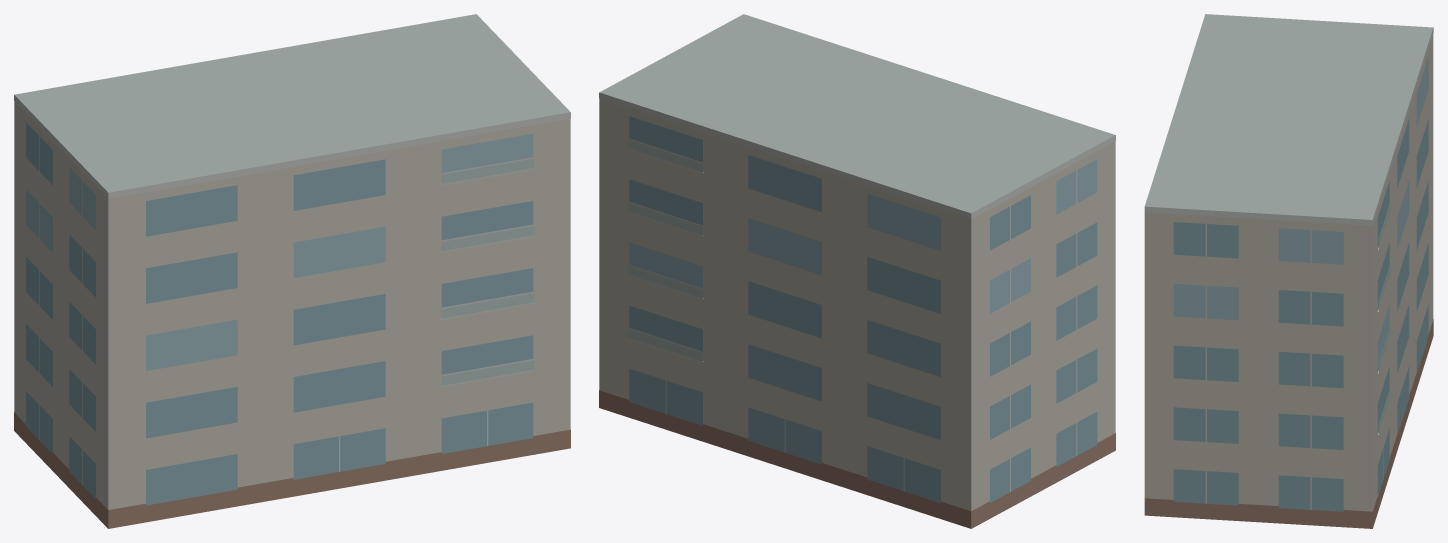
The model's file is survey-upis-32662492.glb.
3 renders of one model, left to right at view 1: azimuth 30°, elevation 25°; view 2: azimuth 150°, elevation 25°; view 3: azimuth 270°, elevation 25°, orthographic. The views are drawn at different scales.
Visible parts, largest first — view 1: survey-upis-32662492.tmp; view 2: survey-upis-32662492.tmp; view 3: survey-upis-32662492.tmp.
Boxes of the visible parts, <box> form: survey-upis-32662492.tmp: <box>14,14,570,528</box>; survey-upis-32662492.tmp: <box>599,14,1115,528</box>; survey-upis-32662492.tmp: <box>1144,14,1433,528</box>.
Bounding box in the file's own units: 18.34 × 12.82 × 10.87.
